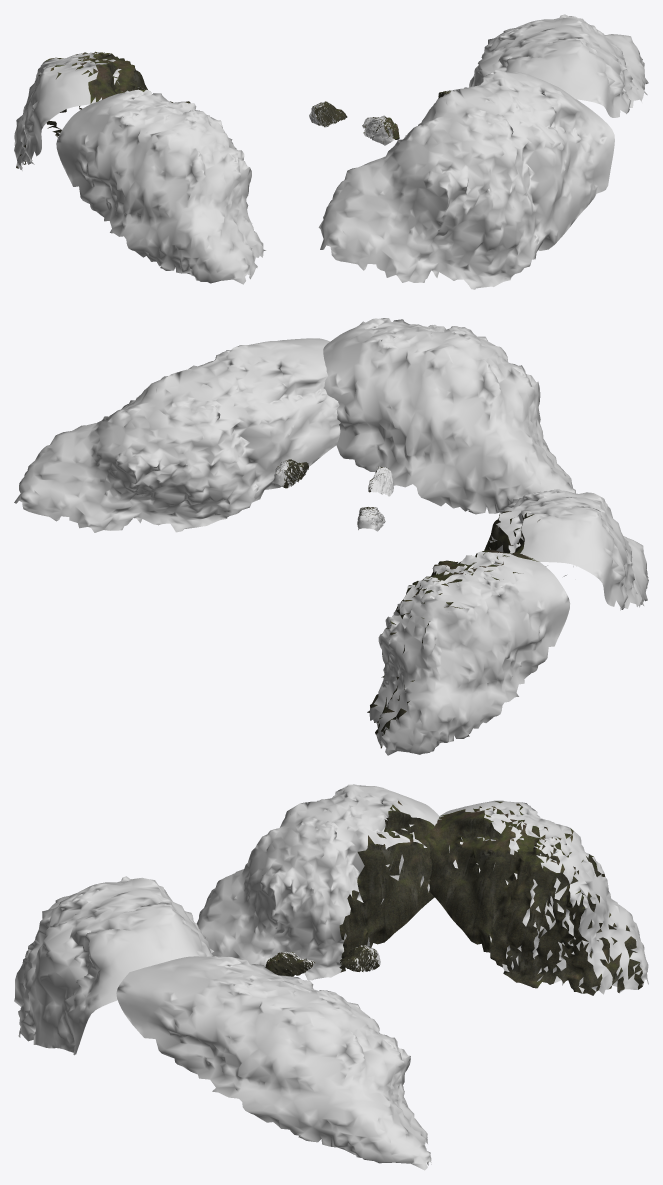
File: cliffs_v3.glb
3 renders of one model, top to bottom at view 1: azimuth 30°, elevation 25°; view 2: azimuth 150°, elevation 25°; view 3: azimuth 270°, elevation 25°, orthographic. The views are drawn at different scales.
Visible parts, largest first — view 1: Cliffs_Shadow, Cliffs_WEB; view 2: Cliffs_Shadow, Cliffs_WEB; view 3: Cliffs_Shadow, Cliffs_WEB.
Boxes of the visible parts, x1,y1,x2,y2 form: Cliffs_Shadow: (14,14,648,289); Cliffs_WEB: (16,52,451,168); Cliffs_Shadow: (14,318,648,755); Cliffs_WEB: (274,459,540,748); Cliffs_Shadow: (14,784,648,1170); Cliffs_WEB: (265,800,643,995).
Bounding box in the file's own units: 280 × 87 × 248.
1 material, 1 textured.
